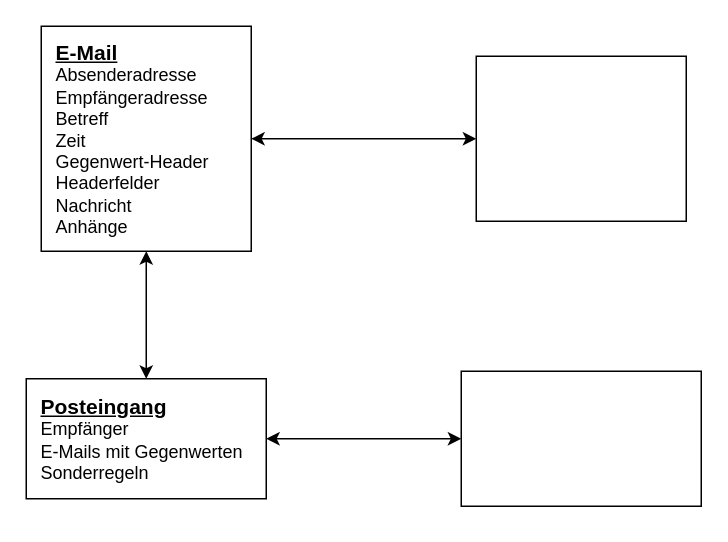
This 728x542 diagram has some shape labels left out. Each missing label, with the centre of its shape:
Empfänger Name E-Mail Adresse Zugangsdaten Bearbeitungsleistung: (580,438)
Gegenwert ID Absenderadresse Empfängeradresse Zeit Betrag: (580,138)
